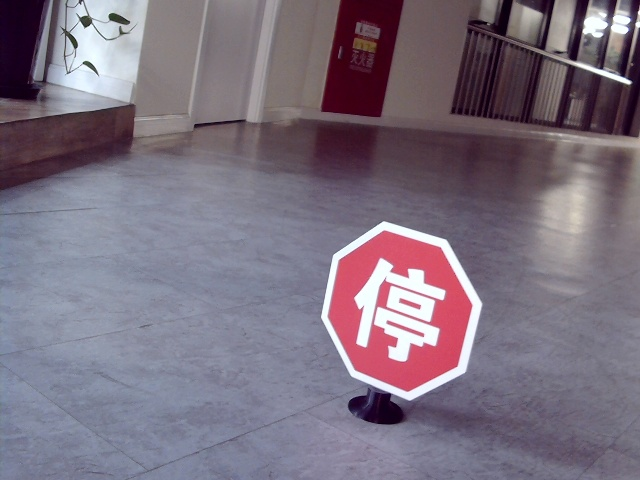stop: (351, 255, 450, 365)
